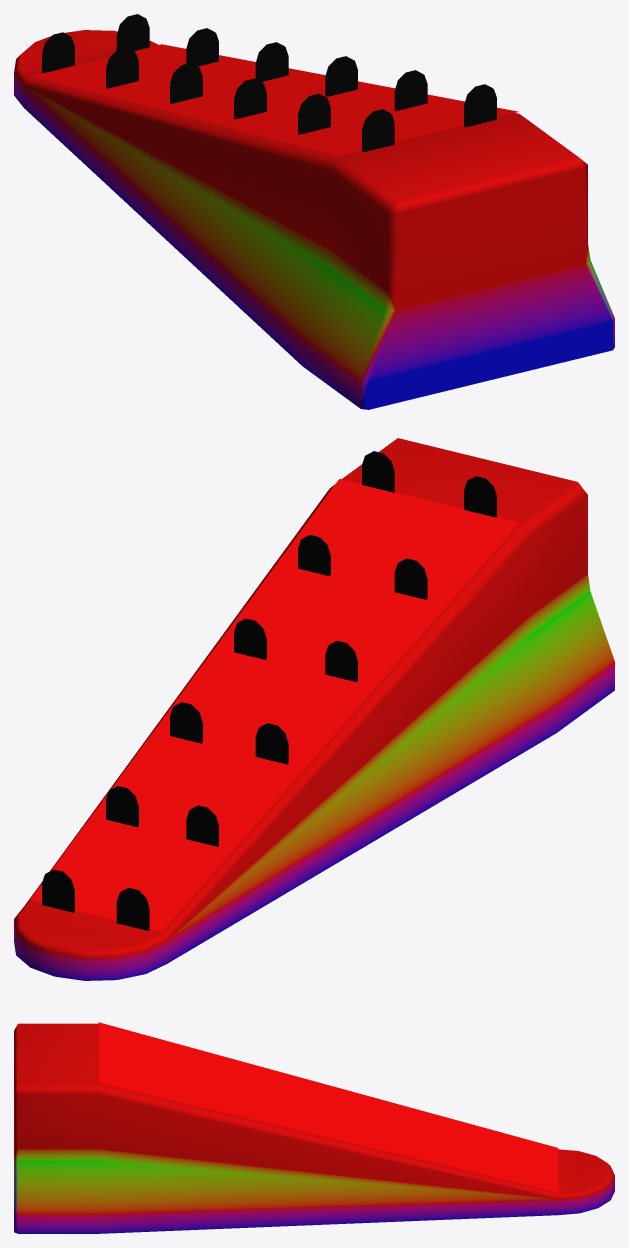
Rendered from Bangkok_Road_BarrierEnd.fbx.
3 views of the same model, one above another, from view 1: azimuth 30°, elevation 25°; view 2: azimuth 150°, elevation 25°; view 3: azimuth 270°, elevation 25° (orthographic). The views are drawn at different scales.
Parts seen in each view (by area): view 1: Bangkok_Road_BarrierEnd; view 2: Bangkok_Road_BarrierEnd; view 3: Bangkok_Road_BarrierEnd.
Part boxes in pixels (bbox=[...]): Bangkok_Road_BarrierEnd: bbox=[14, 14, 614, 409]; Bangkok_Road_BarrierEnd: bbox=[14, 438, 614, 980]; Bangkok_Road_BarrierEnd: bbox=[14, 1022, 614, 1233].
Size of the model in its own units: 133 by 119 by 397.
